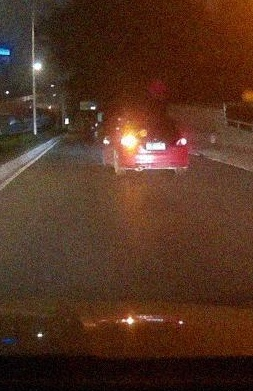L_light: (121, 138, 134, 146)
R_light: (175, 137, 187, 146)
T_light: (142, 118, 150, 121)
night-left: (118, 112, 189, 177)
